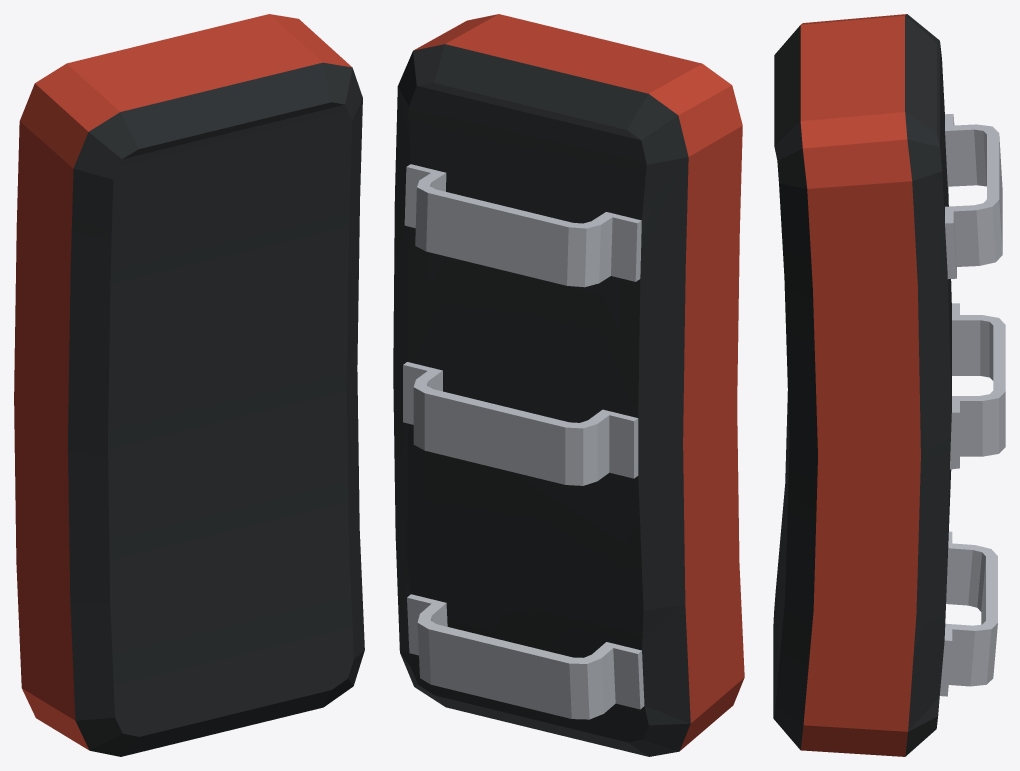
File: SM_Prop_Sport_Kick_Pad_01.obj
3 renders of one model, left to right at view 1: azimuth 30°, elevation 25°; view 2: azimuth 150°, elevation 25°; view 3: azimuth 270°, elevation 25°, orthographic. The views are drawn at different scales.
Parts seen in each view (by area): view 1: SM_Prop_Sport_Kick_Pad_01_0; view 2: SM_Prop_Sport_Kick_Pad_01_0; view 3: SM_Prop_Sport_Kick_Pad_01_0.
Boxes of the visible parts, <box> form: SM_Prop_Sport_Kick_Pad_01_0: <box>14,14,364,756</box>; SM_Prop_Sport_Kick_Pad_01_0: <box>393,14,744,756</box>; SM_Prop_Sport_Kick_Pad_01_0: <box>773,14,1005,756</box>.
Size of the model in its own units: 0.4648 by 1.01 by 0.3316.
Materials: 1 (1 with a texture image).
